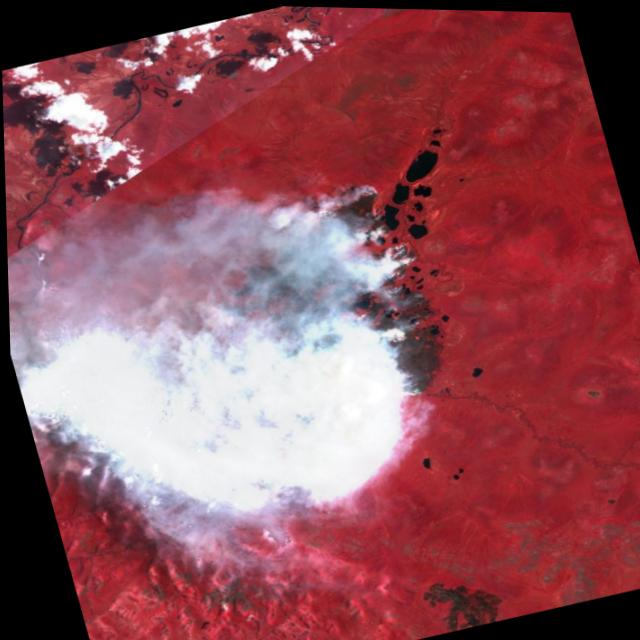fire: (183, 164, 460, 443)
